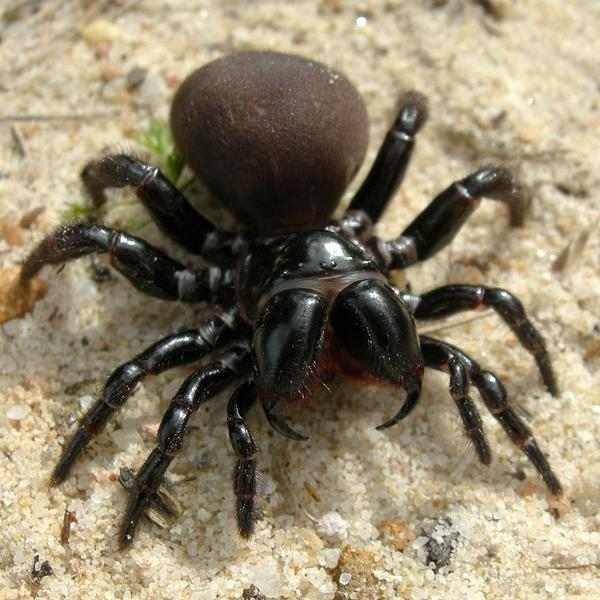Red Headed Mouse Spider: (45, 52, 559, 531)
